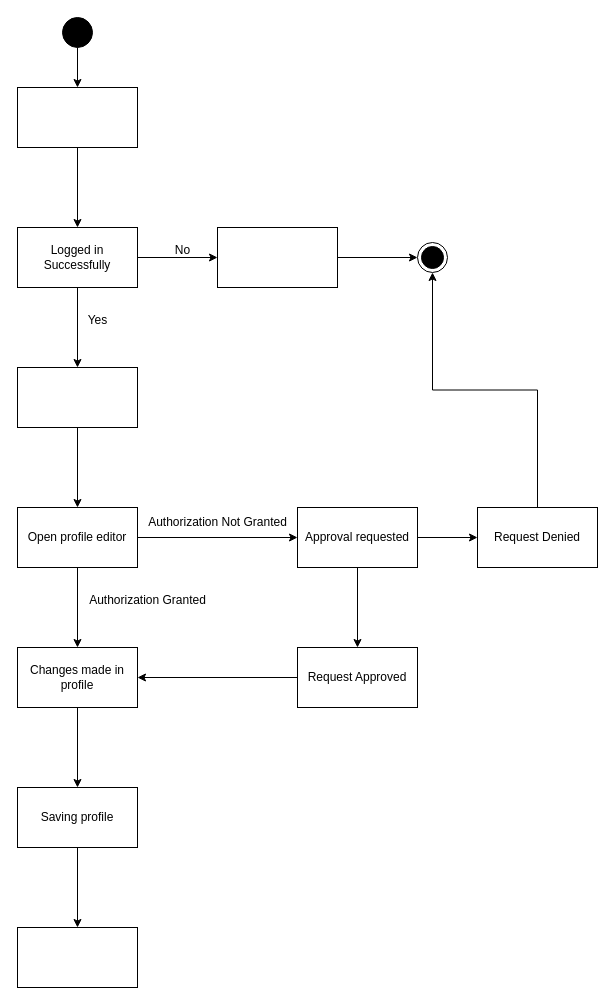
The diagram is 615 pixels wide and 1005 high, and some of its shapes have lost their labels. The shapes that lost their labels are listed below. From the top down, each one's centre as x and y in pixels, then its label:
the point at 77,117: Login
the point at 277,257: Error message
the point at 77,397: Dashboard displayed
the point at 77,957: Profile Updated
